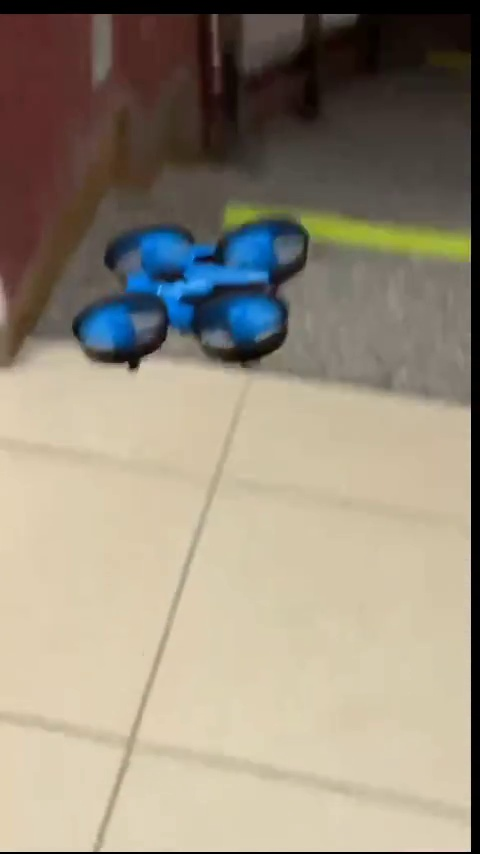drone: (71, 219, 307, 361)
